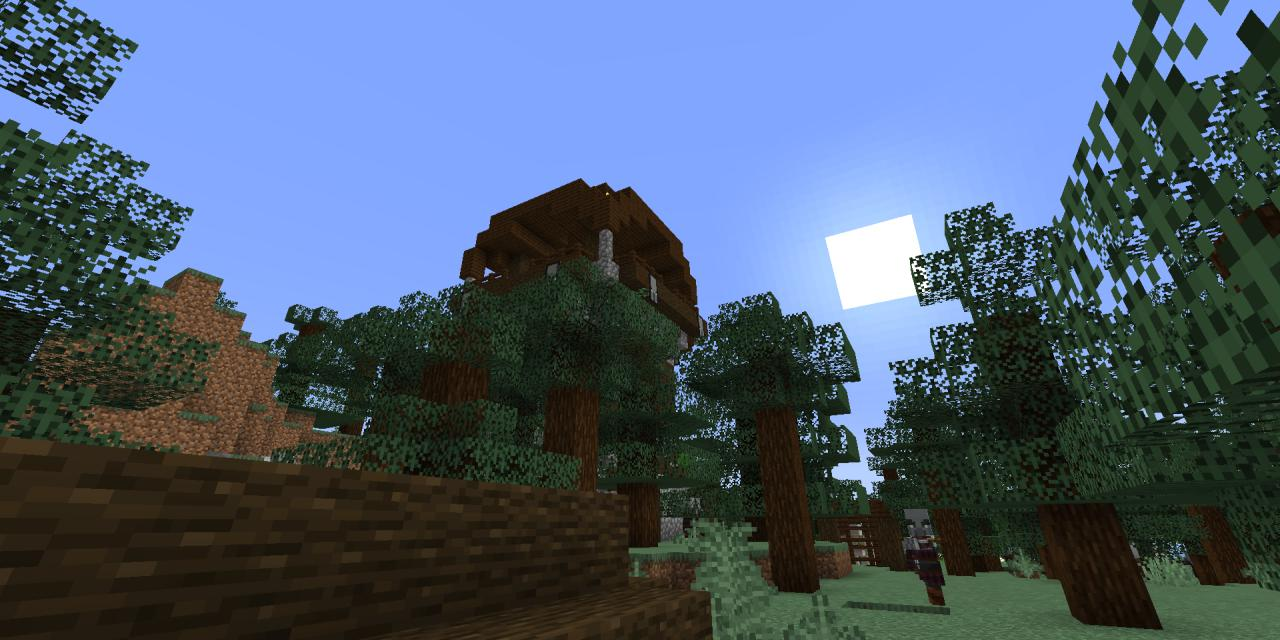pillager outpost: (441, 163, 717, 357)
